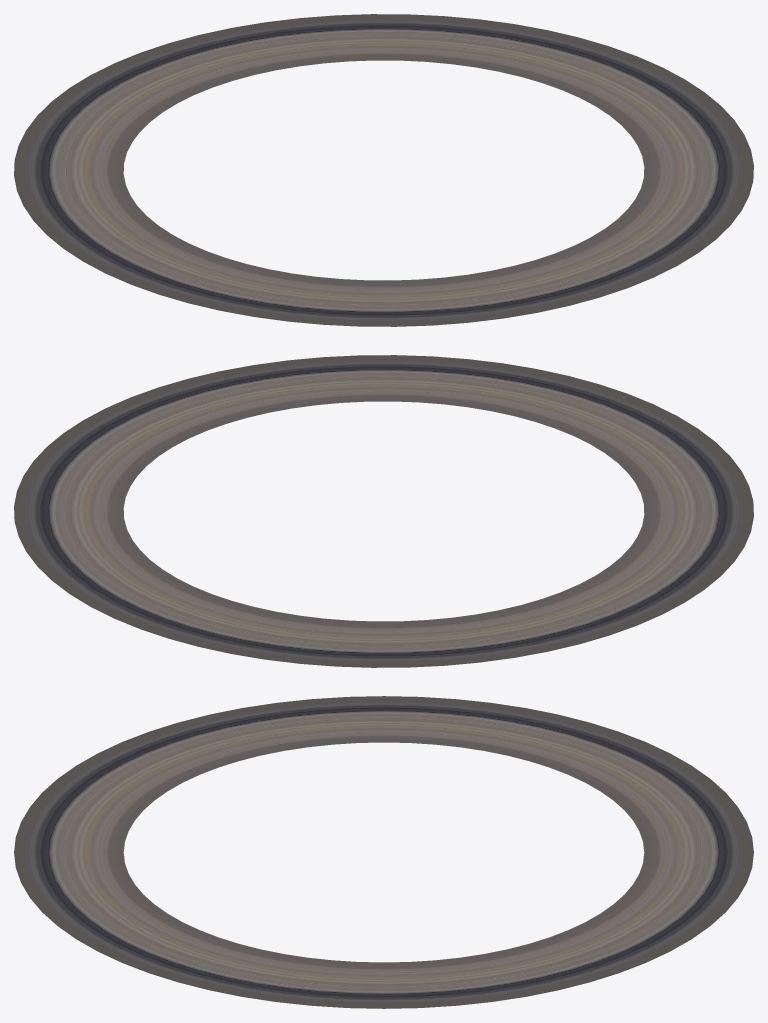
The model's file is uranus.fbx.
3 views of the same model, one above another, from view 1: azimuth 30°, elevation 25°; view 2: azimuth 150°, elevation 25°; view 3: azimuth 270°, elevation 25° (orthographic).
Parts seen in each view (by area): view 1: Plane.001; view 2: Plane.001; view 3: Plane.001.
Part boxes in pixels (x1,y1,x2,y2): Plane.001: [14, 14, 753, 326]; Plane.001: [14, 355, 753, 667]; Plane.001: [14, 696, 753, 1008].
Bounding box in the file's own units: 1.81 × 2.95e-07 × 1.81.
1 material, 1 textured.
